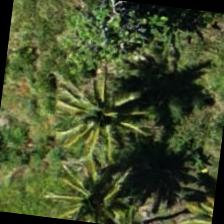Kelapa_Sawit: (48, 72, 148, 172), (44, 152, 143, 223)
